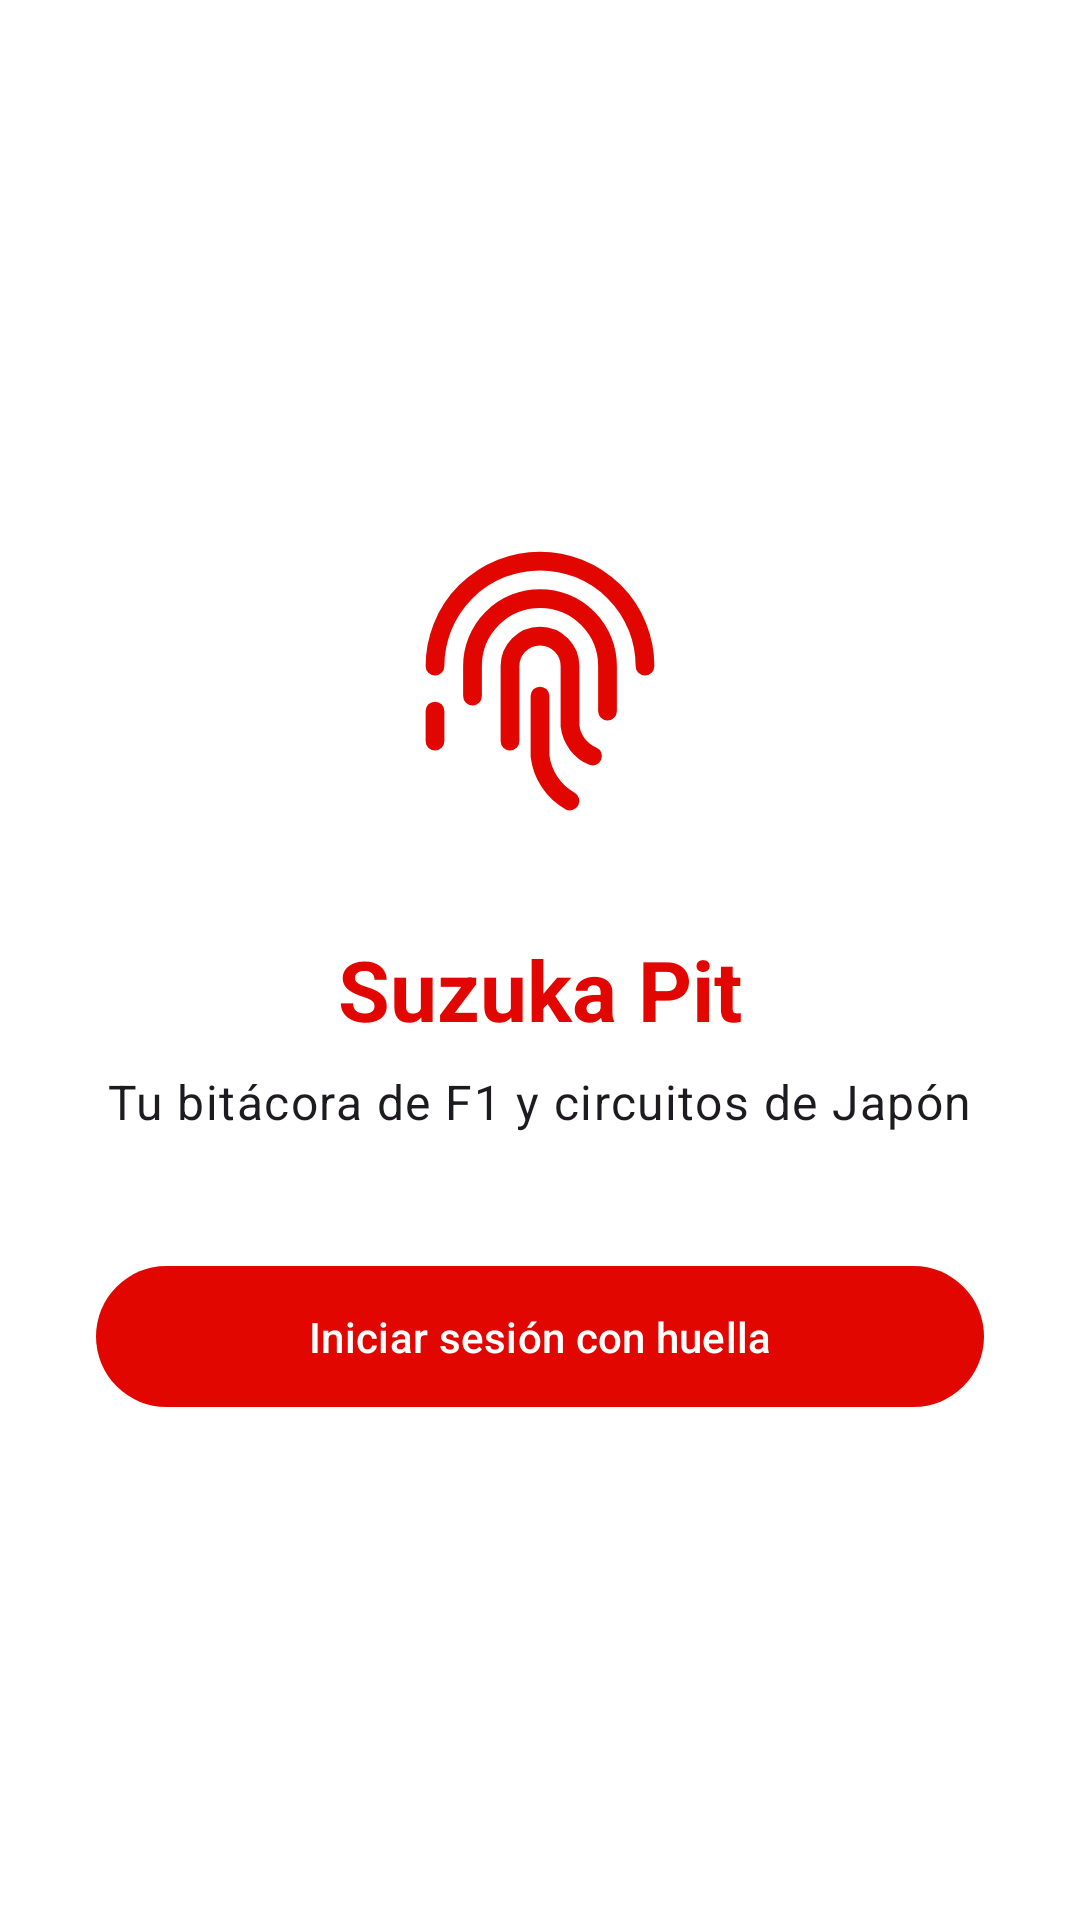

Icons on this 1080px x 1920px Android screen, each with its box as box(x1, y1, x2, y2):
Iniciar sesión con huella: box(425, 551, 655, 811)
